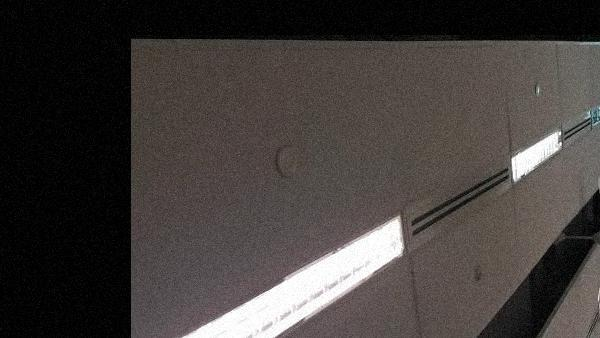light_on: (131, 205, 415, 338), (499, 123, 570, 189), (585, 253, 600, 321)
